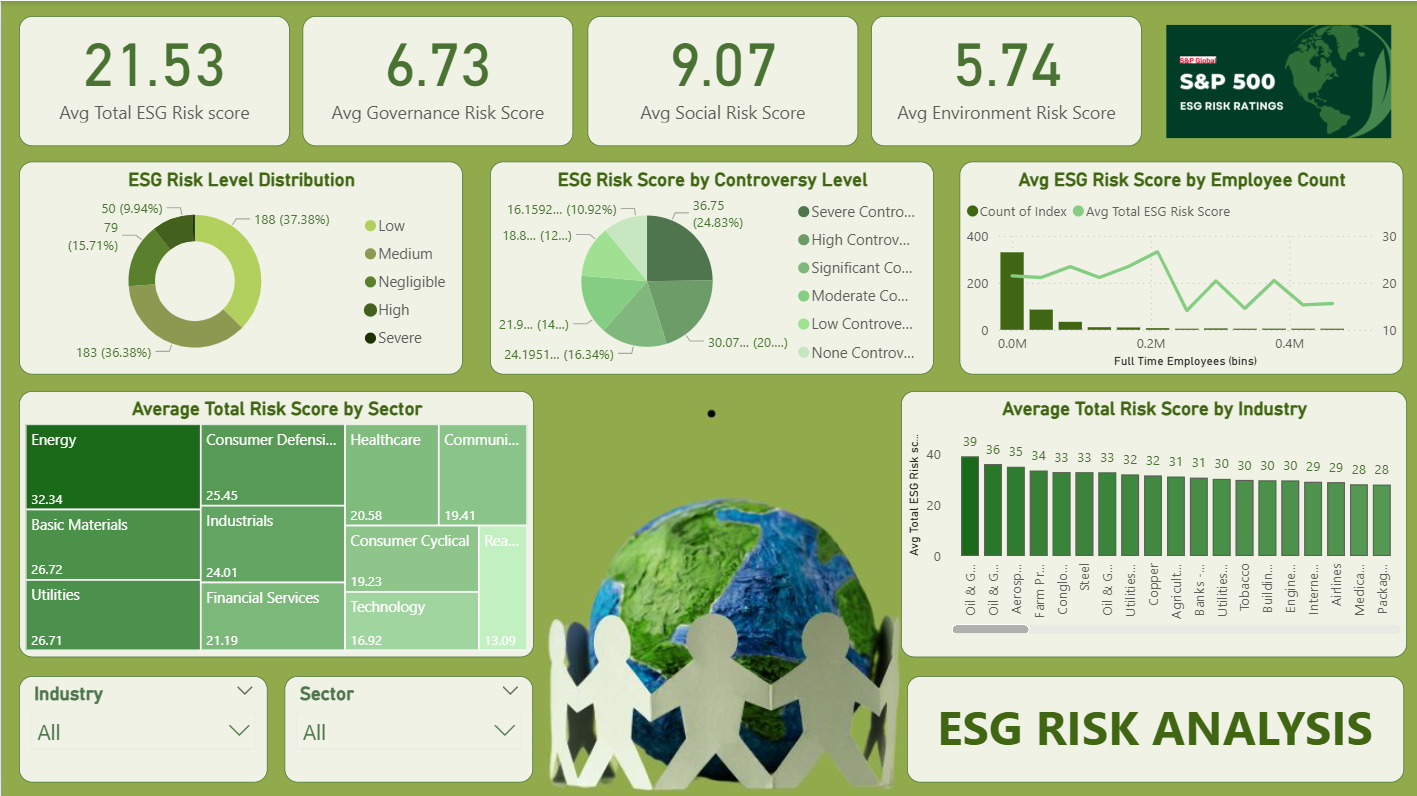

What the dashboard file says about the page in this screenshot:
{"tool":"powerbi","page":{"name":"Page 1","canvas":[1280,720],"ordinal":0},"visuals":[{"type":"card","fields":{"Values":["Avg(SP 500 ESG Risk Ratings.Total ESG Risk score)"]},"box":[16,13.8,244,117],"z":0},{"type":"card","fields":{"Values":["Avg(SP 500 ESG Risk Ratings.Environment Risk Score)"]},"box":[784,13.8,244,117],"z":1000},{"type":"card","fields":{"Values":["Avg(SP 500 ESG Risk Ratings.Social Risk Score)"]},"box":[528,13.8,244,117],"z":2000},{"type":"card","fields":{"Values":["Avg(SP 500 ESG Risk Ratings.Governance Risk Score)"]},"box":[272,13.8,244,117],"z":3000},{"type":"image","box":[1040,16,224,112],"z":4000},{"type":"donutChart","title":"ESG Risk Level Distribution","fields":{"Category":["ESG Risk Score.ESG Risk Category"],"Y":["CountNonNull(ESG Risk Score.Index)"]},"box":[16,144,400,192],"z":5000},{"type":"treemap","title":"Average Total Risk Score by Sector","fields":{"Group":["ESG Risk Score.Sector"],"Values":["Avg(ESG Risk Score.Total ESG Risk score)"]},"box":[16,352,464,240],"z":6000},{"type":"clusteredColumnChart","title":"Average Total Risk Score by Industry","fields":{"Category":["ESG Risk Score.Industry"],"Y":["Avg(ESG Risk Score.Total ESG Risk score)"]},"box":[811,352,456,240],"z":7000},{"type":"pieChart","title":"ESG Risk Score by Controversy Level","fields":{"Category":["ESG Risk Score.Controversy Level"],"Y":["Avg(ESG Risk Score.Total ESG Risk score)"]},"box":[440,144,400,192],"z":8000},{"type":"lineClusteredColumnComboChart","title":"Avg ESG Risk Score by Employee Count","fields":{"Category":["ESG Risk Score.Full Time Employees (bins)"],"Y":["CountNonNull(ESG Risk Score.Index)"],"Y2":["Avg(ESG Risk Score.Total ESG Risk score)"]},"box":[864,144,400,192],"z":9000},{"type":"slicer","title":"Average Total Risk Score by Sector","fields":{"Values":["ESG Risk Score.Industry"]},"box":[16,608,224,96],"z":10000},{"type":"slicer","title":"Average Total Risk Score by Sector","fields":{"Values":["ESG Risk Score.Sector"]},"box":[256,608,224,96],"z":10001},{"type":"textbox","box":[816,608,448,96],"z":10002}]}

Visuals, with their boxes in screenshot pixels (x1, y1, x2, y2), scaled from the page's 1280x720 canvas onto the 1417x796 screenshot:
card - Avg(SP 500 ESG Risk Ratings.Total ESG Risk score): x1=18, y1=15, x2=288, y2=145
card - Avg(SP 500 ESG Risk Ratings.Environment Risk Score): x1=868, y1=15, x2=1138, y2=145
card - Avg(SP 500 ESG Risk Ratings.Social Risk Score): x1=585, y1=15, x2=855, y2=145
card - Avg(SP 500 ESG Risk Ratings.Governance Risk Score): x1=301, y1=15, x2=571, y2=145
image: x1=1151, y1=18, x2=1399, y2=142
"ESG Risk Level Distribution" donutChart: x1=18, y1=159, x2=461, y2=371
"Average Total Risk Score by Sector" treemap: x1=18, y1=389, x2=531, y2=654
"Average Total Risk Score by Industry" clusteredColumnChart: x1=898, y1=389, x2=1403, y2=654
"ESG Risk Score by Controversy Level" pieChart: x1=487, y1=159, x2=930, y2=371
"Avg ESG Risk Score by Employee Count" lineClusteredColumnComboChart: x1=956, y1=159, x2=1399, y2=371
"Average Total Risk Score by Sector" slicer: x1=18, y1=672, x2=266, y2=778
"Average Total Risk Score by Sector" slicer: x1=283, y1=672, x2=531, y2=778
textbox: x1=903, y1=672, x2=1399, y2=778
